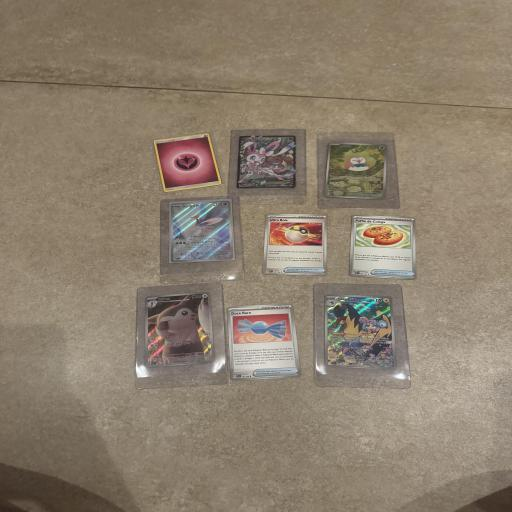card: (227, 302, 302, 381), (139, 292, 216, 368), (324, 294, 396, 370), (349, 214, 420, 280), (262, 212, 329, 276), (154, 132, 223, 193), (168, 201, 234, 263), (324, 142, 388, 200), (237, 135, 296, 189)
